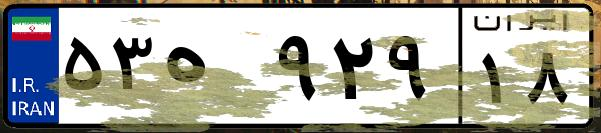1: (475, 38, 525, 113)
2: (330, 28, 385, 110)
3: (110, 28, 158, 98)
5: (57, 26, 110, 100)
8: (525, 38, 570, 115)
9: (270, 28, 330, 110), (385, 28, 445, 110)
ه: (158, 20, 270, 120)
